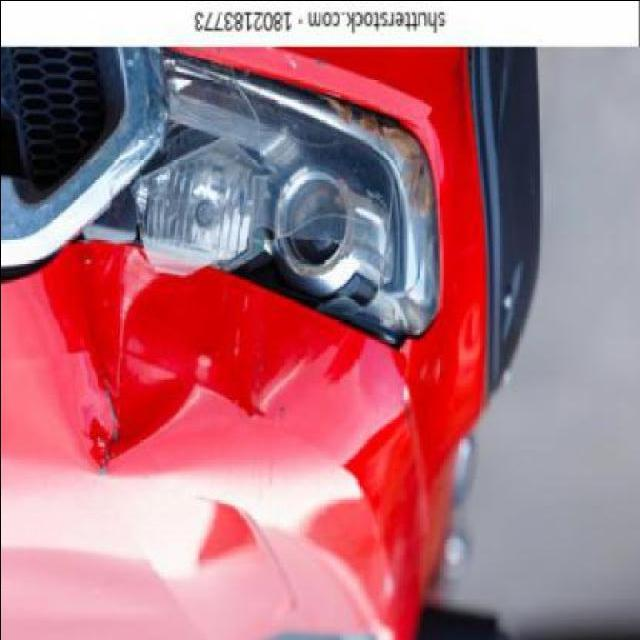Headlight-Damage: (220, 196, 393, 351)
front-bumper-dent: (62, 243, 226, 476)
